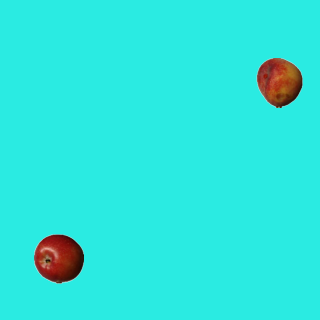Apple Braeburn: (33, 233, 83, 283)
Peach: (254, 57, 304, 107)
